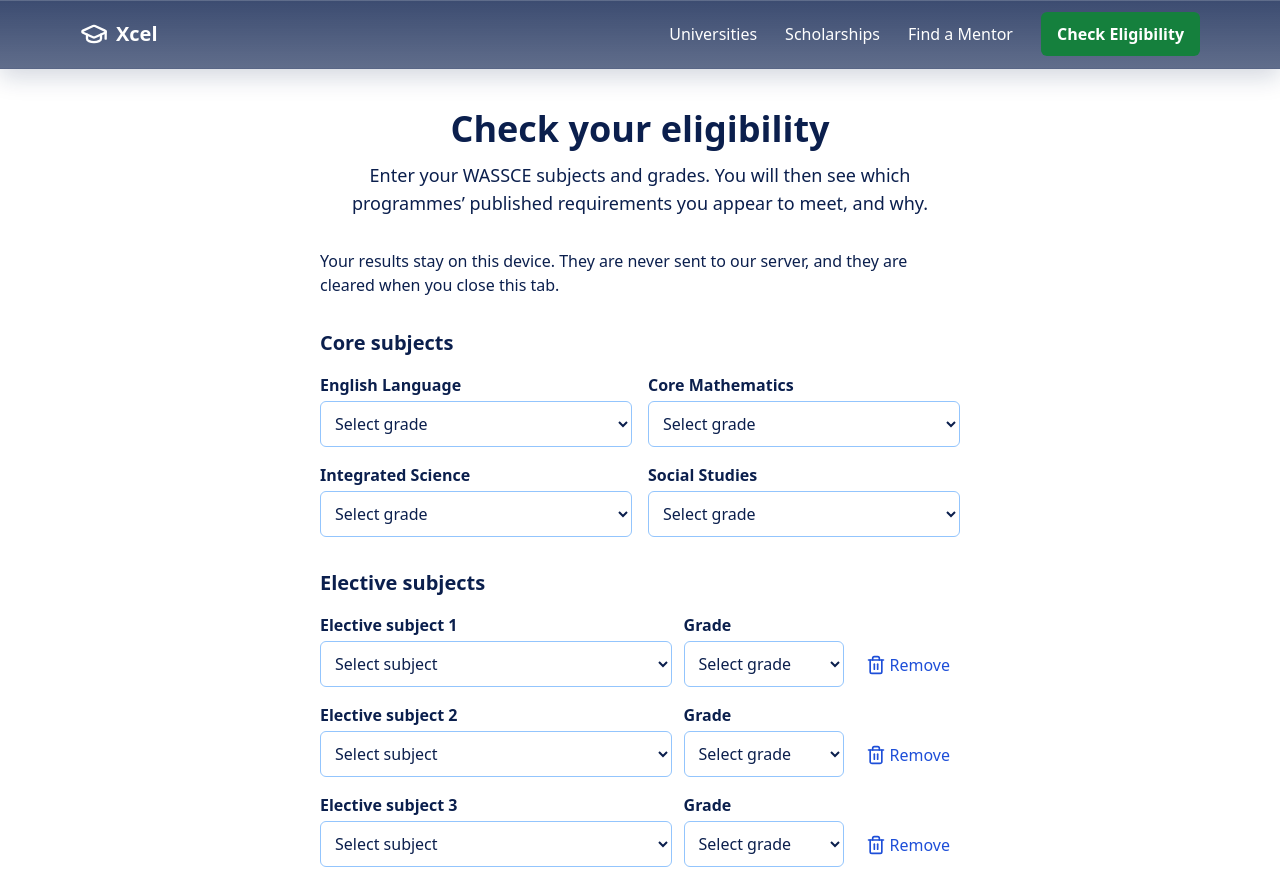
it: checking eligibility › warns, without blocking, when core subjects are missing
Select "B3 – Good" in the dropdown labelled "English Language". click: [476, 424]
box: [320,401,632,447]
(page scrolled)
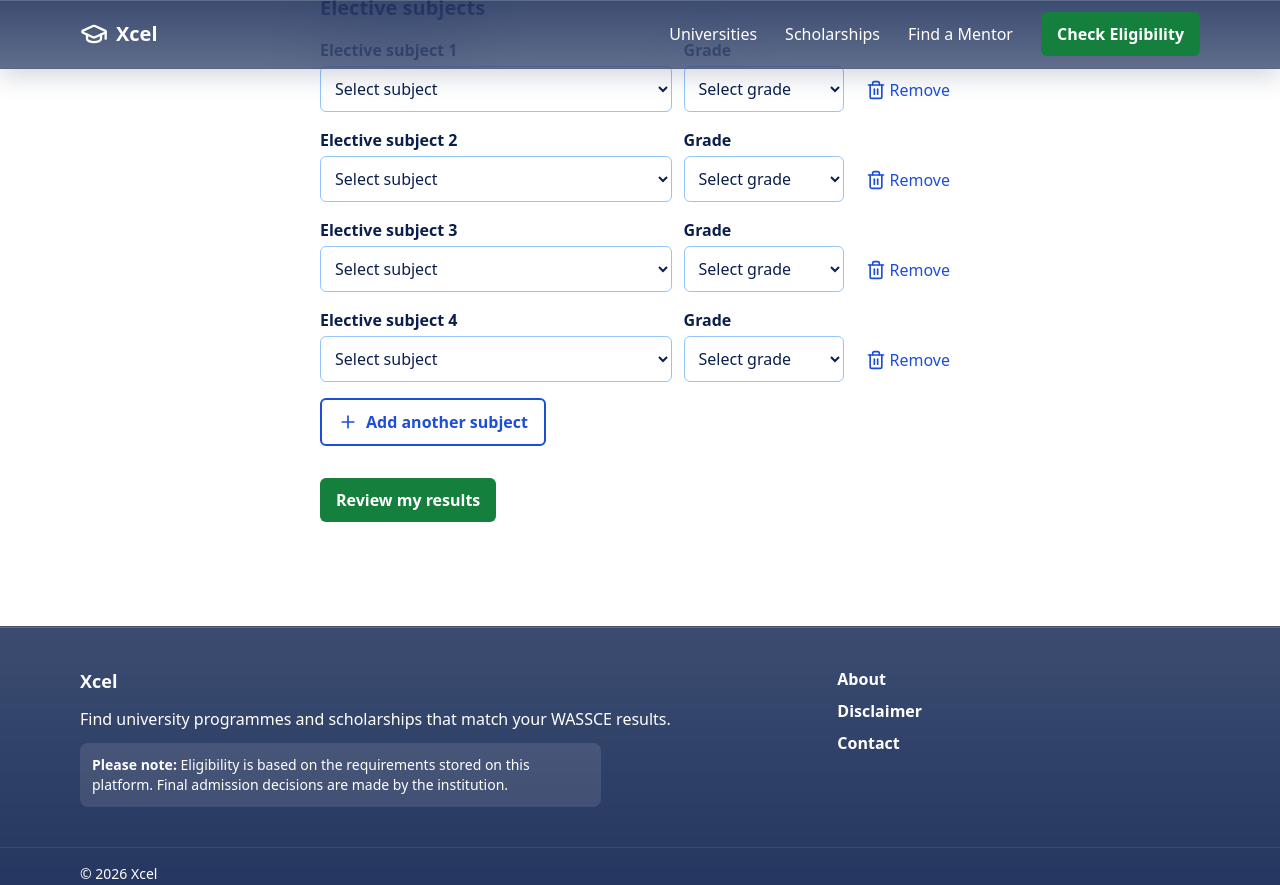
Click the button "Review my results". click: [408, 500]
box: [320,478,496,522]
(page scrolled)
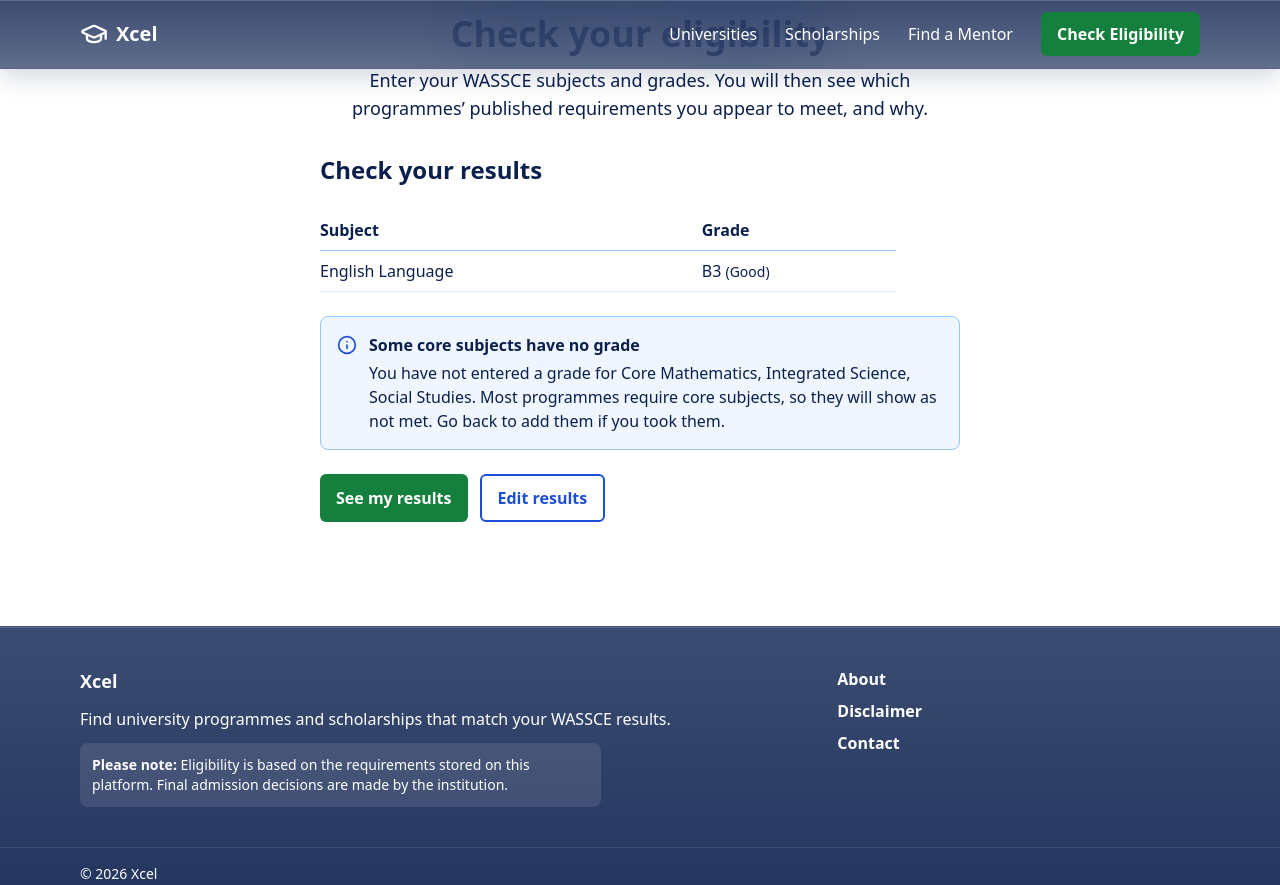
Expected: the text "Core Mathematics, Integrated Science, Social Studies" is shown, [369,362,910,408]
Expected: the button "See my results" is enabled, [320,474,468,522]
